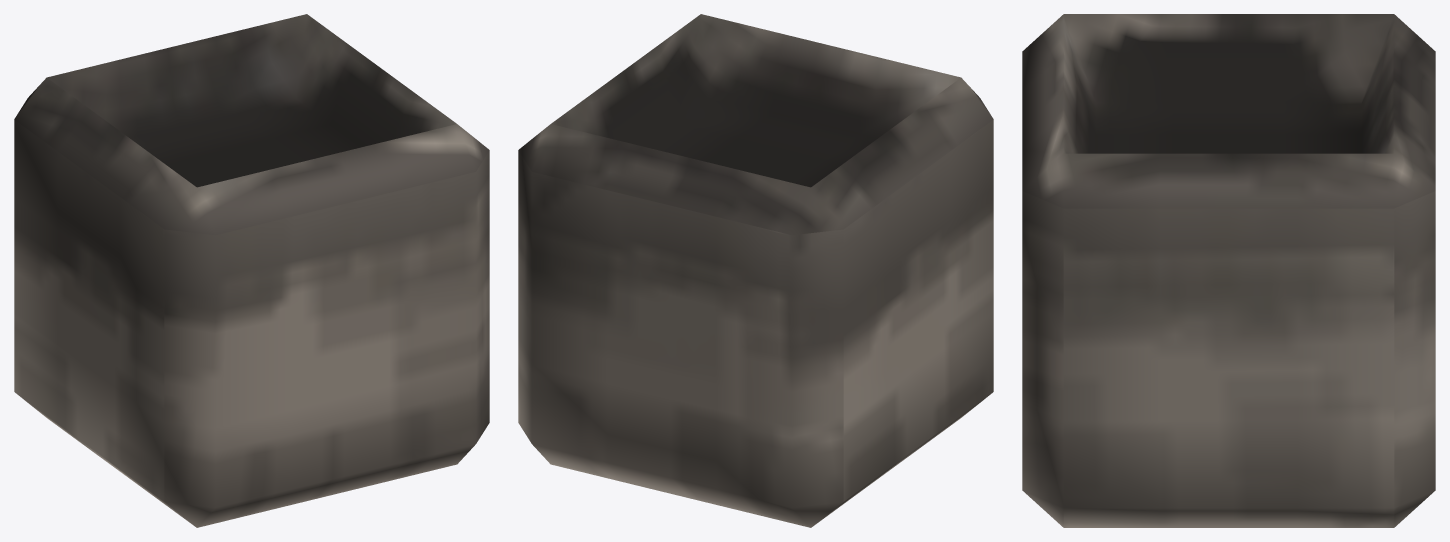
Rendered from openvent.fbx.
The picture shows the model from 3 angles, left to right: view 1: azimuth 30°, elevation 25°; view 2: azimuth 150°, elevation 25°; view 3: azimuth 270°, elevation 25°; orthographic projection. The views are drawn at different scales.
Parts seen in each view (by area): view 1: Cube; view 2: Cube; view 3: Cube.
Part boxes in pixels (x1,y1,x2,y2): Cube: (14,14,489,527); Cube: (518,14,993,527); Cube: (1022,14,1435,527).
Bounding box in the file's own units: 200 × 200 × 200.
Materials: 1 (1 with a texture image).
